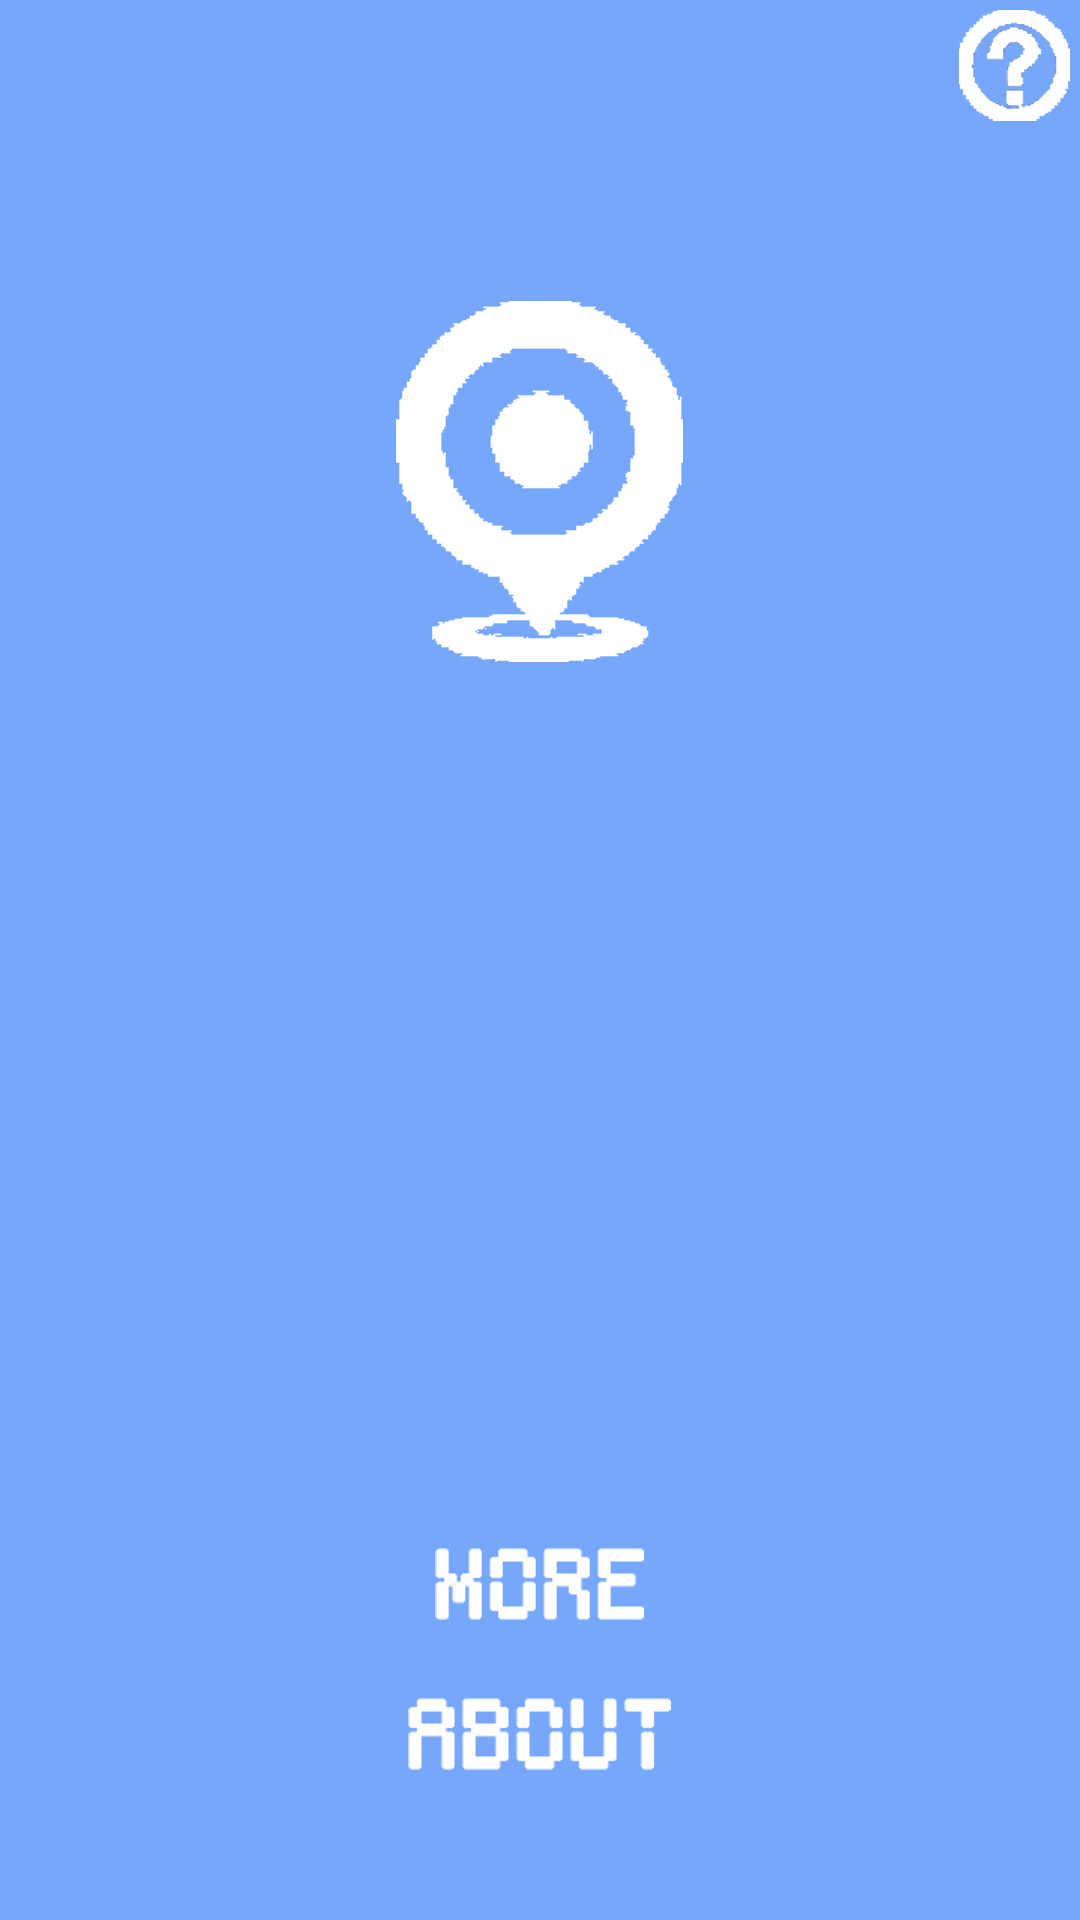

Where to tap for icons on this 1080w x 1920h app screen, as point (x, y):
helpbutton home: point (1014, 65)
